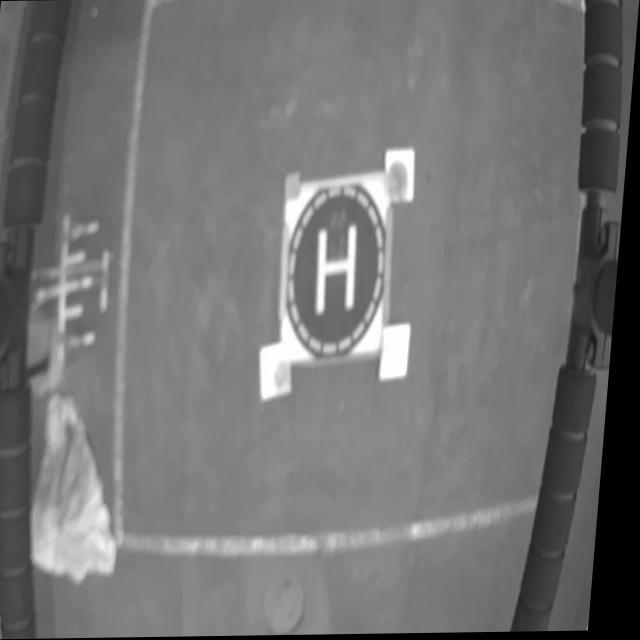Helipad: (319, 224, 360, 317)
